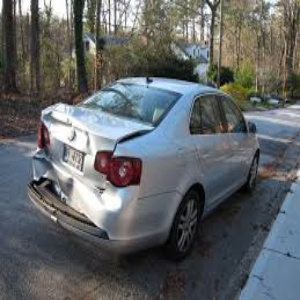bumper: (21, 175, 124, 247)
